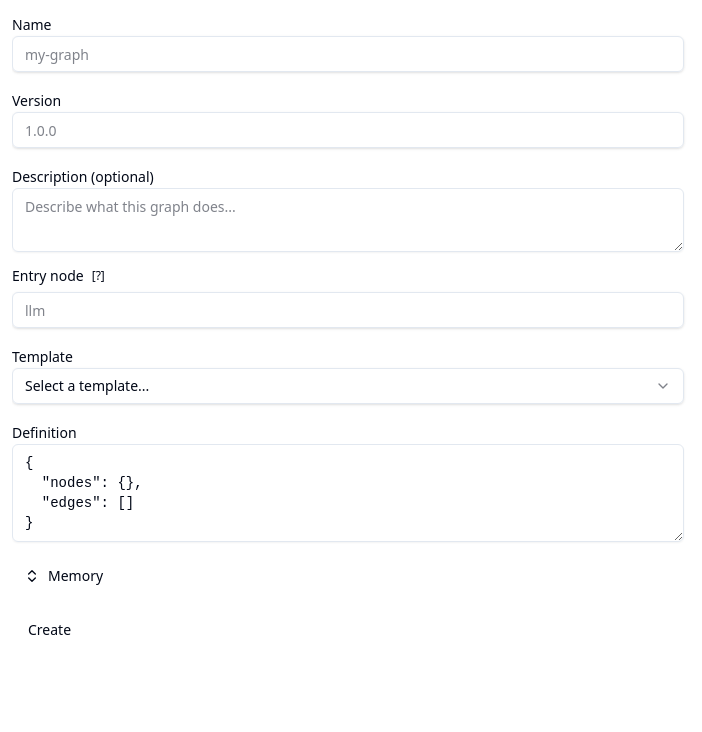
GraphForm › shows version format error for non-semver
Type "abc" into the field labelled "Version" at (348, 130), box [12,112,684,148]
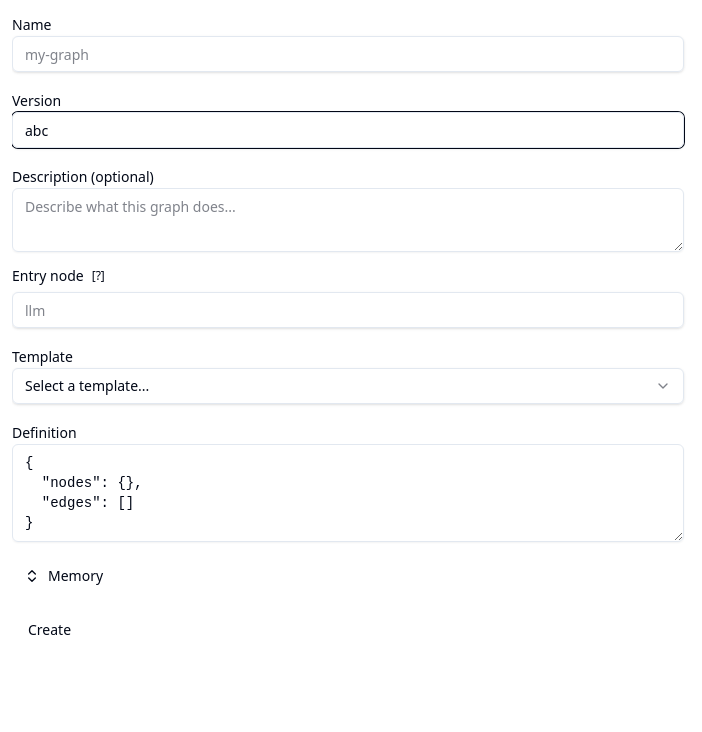
Click the button "Create" at (50, 630), box [12,610,87,650]
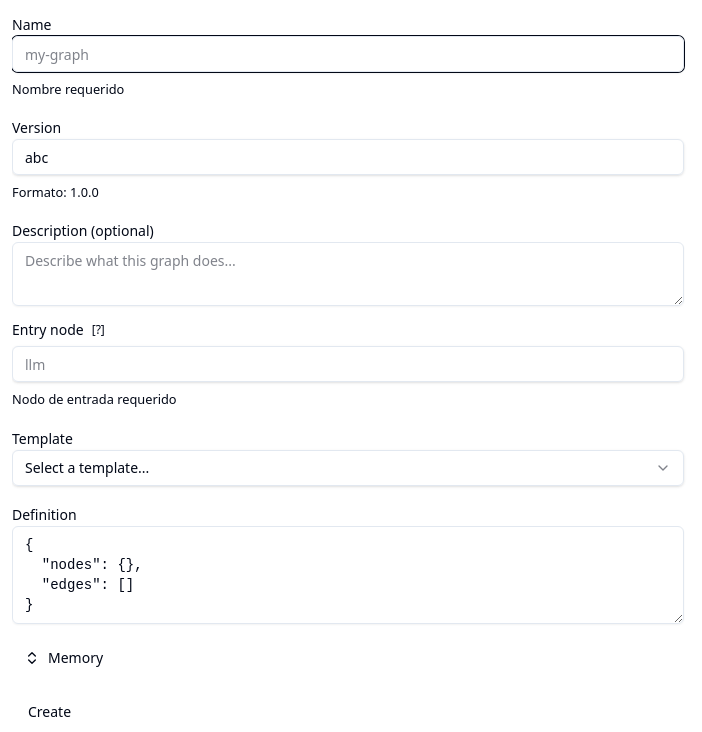
Expected: the text "Formato: 1.0.0" is shown, [12,183,99,201]
